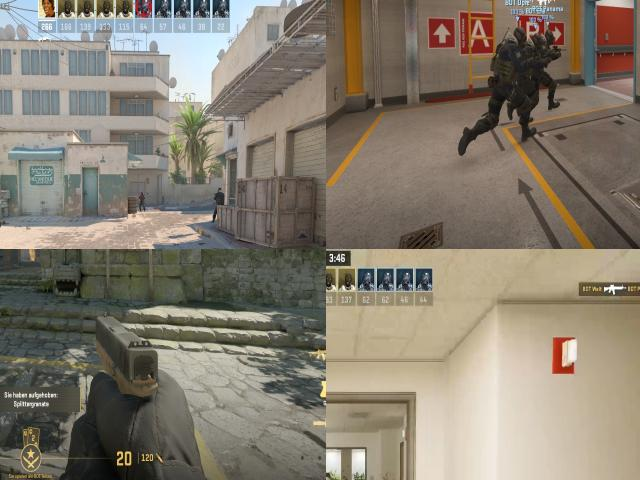CT: (492, 26, 526, 142), (522, 26, 543, 121), (539, 26, 559, 104), (216, 188, 224, 218), (139, 192, 145, 208)
CT-Head: (512, 28, 526, 44), (544, 29, 554, 44), (533, 33, 542, 47), (326, 470, 333, 480), (218, 188, 222, 194), (140, 192, 144, 196)
